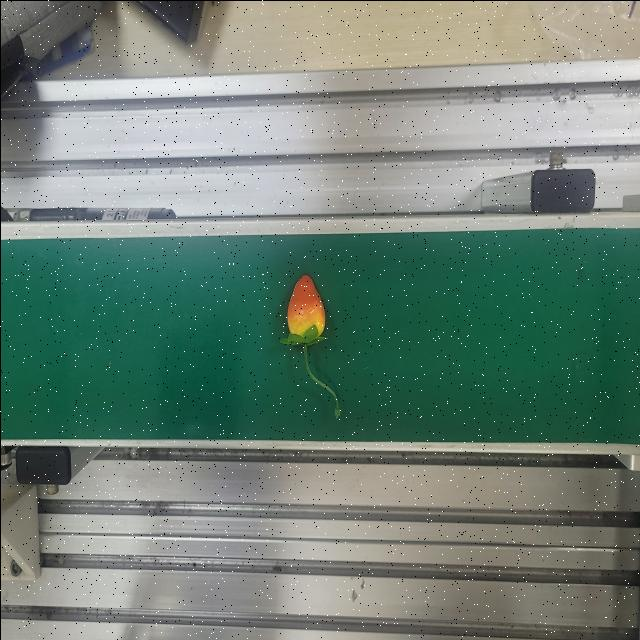Small Unripe Strawberry: (277, 270, 343, 424)
